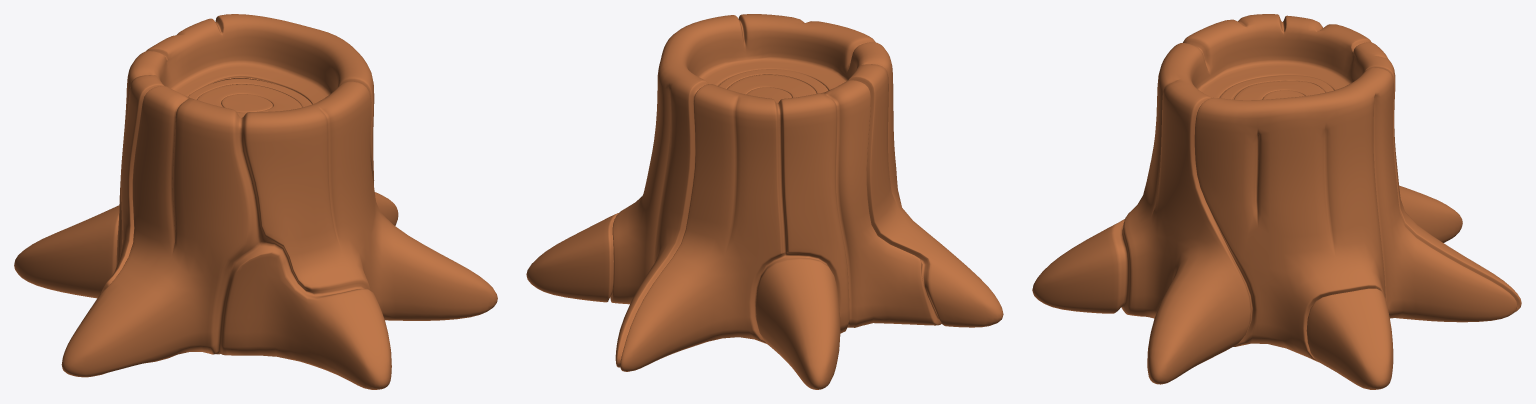
Rendered from Stump.fbx.
3 renders of one model, left to right at view 1: azimuth 30°, elevation 25°; view 2: azimuth 150°, elevation 25°; view 3: azimuth 270°, elevation 25°, orthographic.
Visible parts, largest first — view 1: stylized_stump_mesh; view 2: stylized_stump_mesh; view 3: stylized_stump_mesh.
Part boxes in pixels (x1,y1,x2,y2): stylized_stump_mesh: (14,14,497,389); stylized_stump_mesh: (526,14,1003,389); stylized_stump_mesh: (1032,14,1521,389).
Size of the model in its own units: 102 by 96.7 by 57.11.
